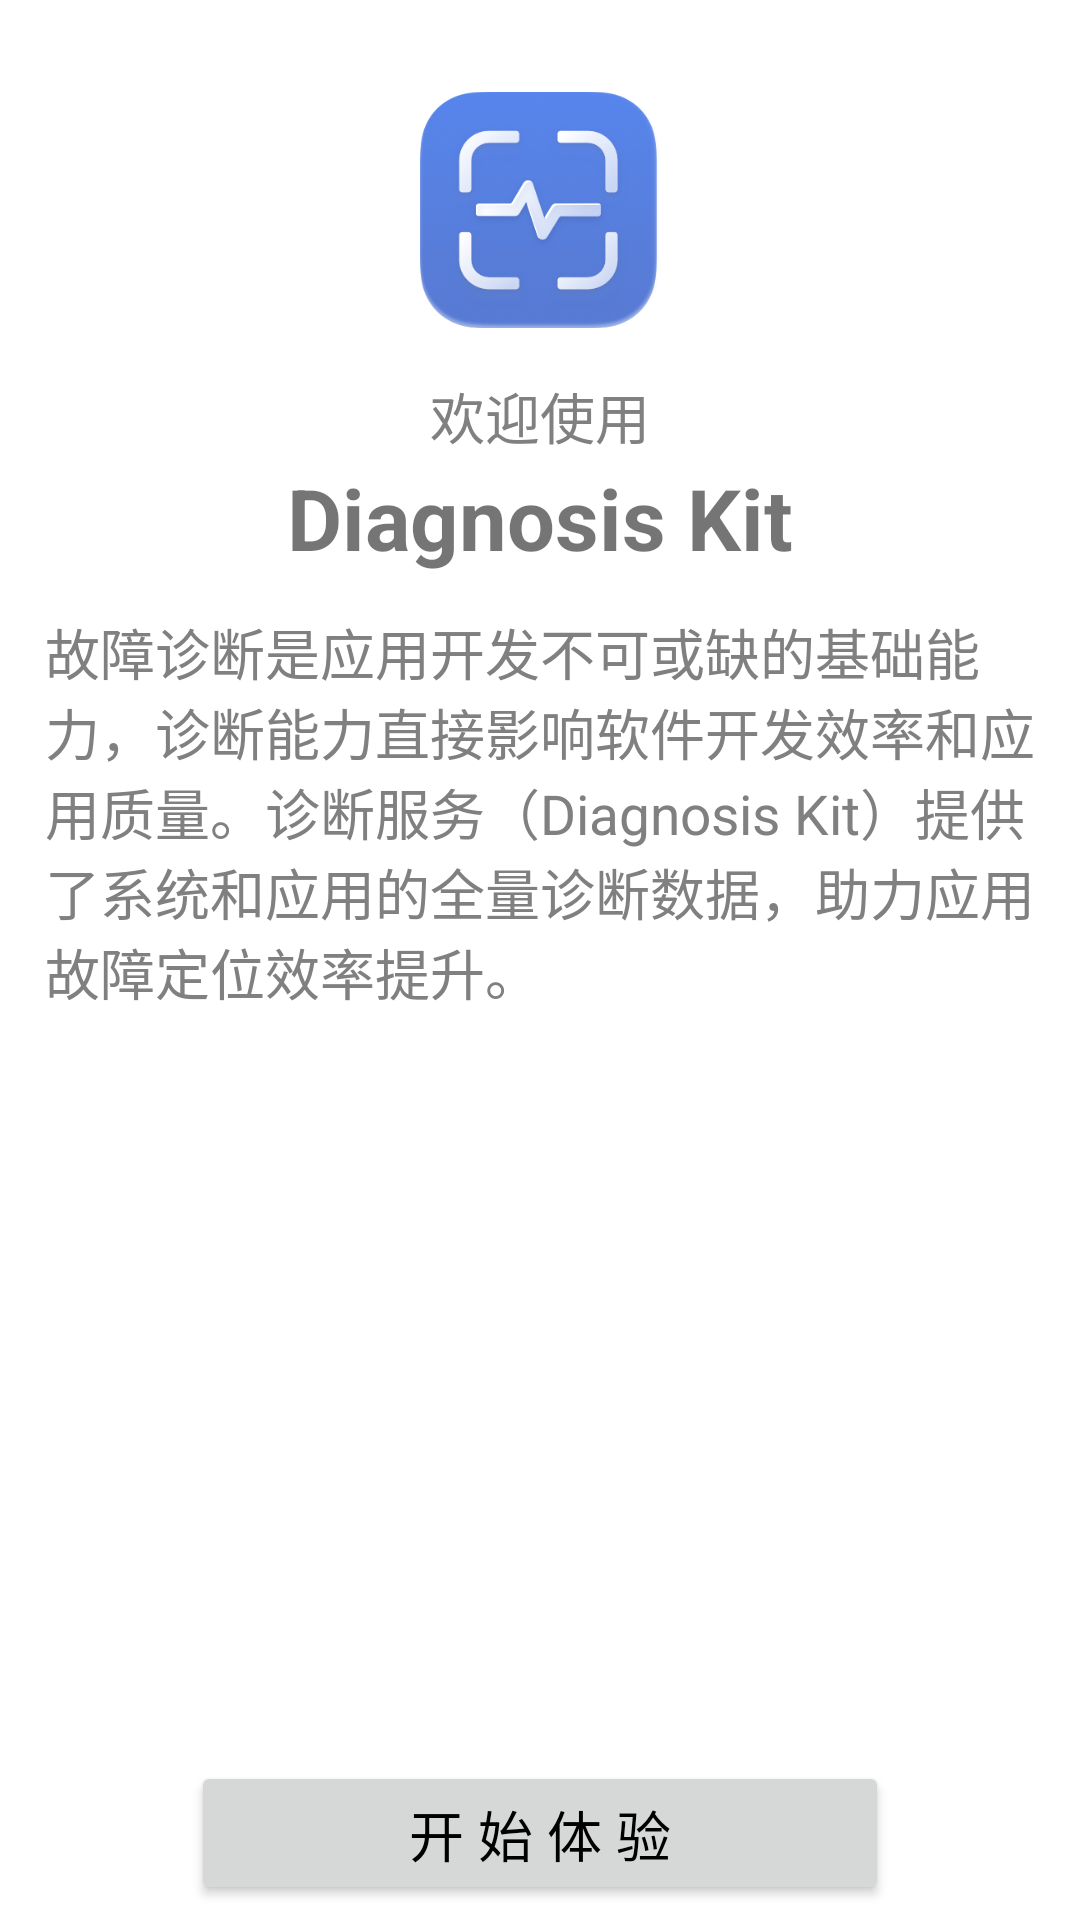

Icon bounding boxes for this 1080 × 1920 phone screenshot, format (x1,y1,x2,y2):
diagkit: (420,92,657,328)
